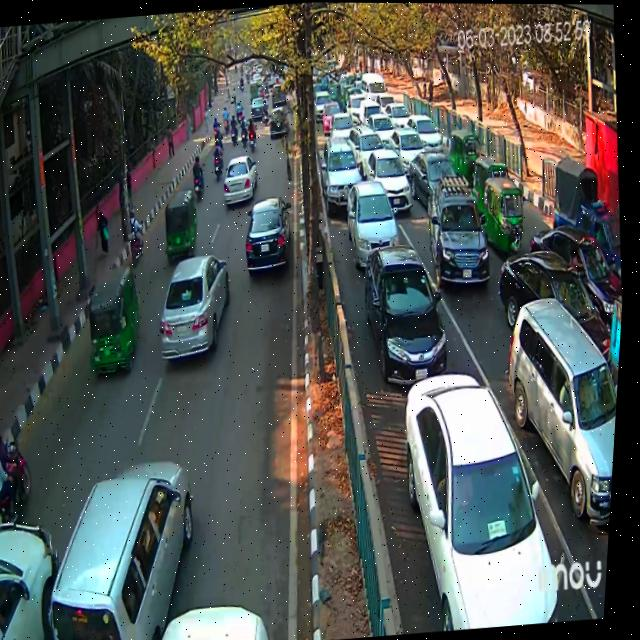cng: (83, 260, 153, 388), (480, 163, 531, 262), (160, 186, 207, 265), (467, 148, 515, 221), (443, 126, 485, 185)
